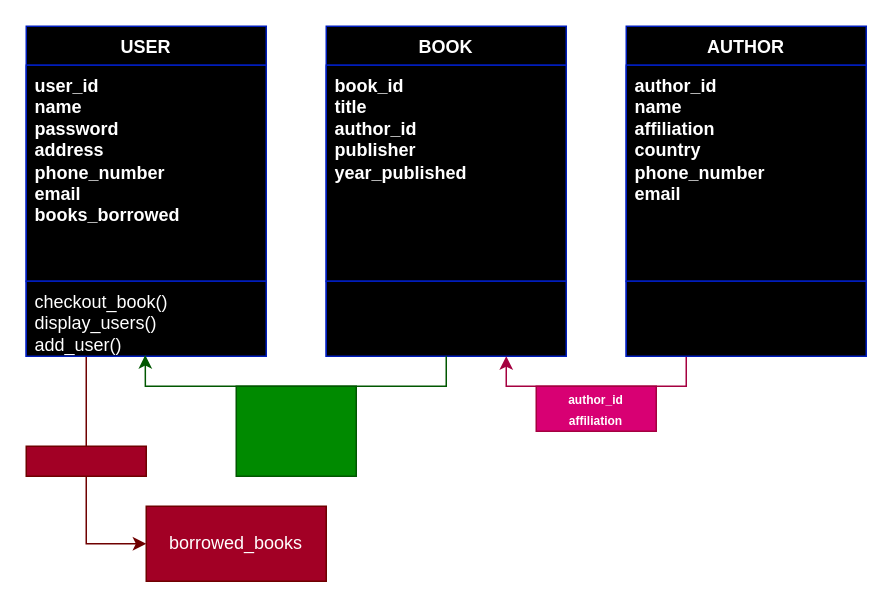
This 893x608 diagram has some shape labels left out. Here are the shapes that lost their labels. From the top down, the centre of each, then its label:
the point at 445,318: add_book() display_books()
the point at 745,318: add_author() display_authors()
the point at 295,430: book_id title author publisher year_published
the point at 85,460: book_id
